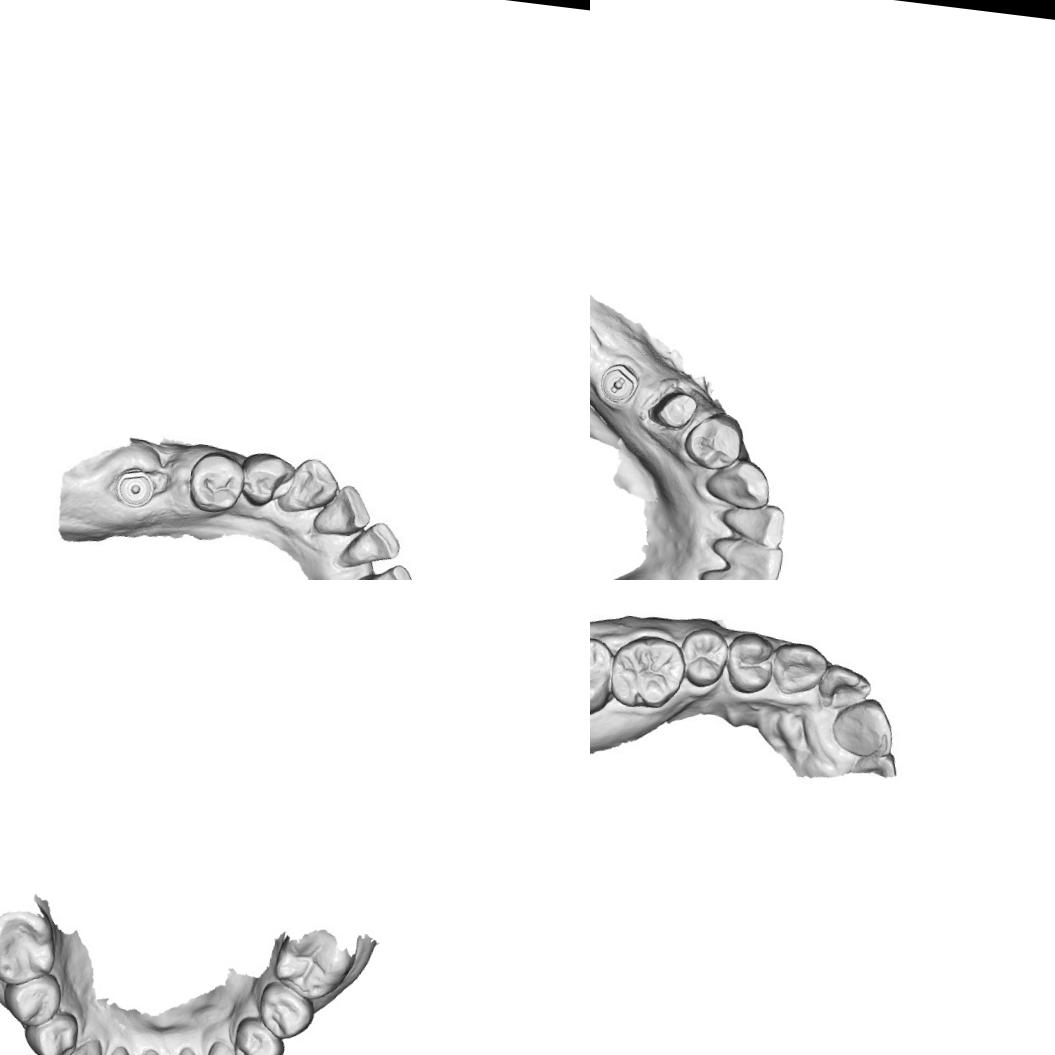canine: (702, 454, 772, 512), (282, 454, 337, 518), (768, 641, 824, 697), (52, 1037, 108, 1055), (200, 1038, 250, 1055)
crown: (646, 383, 698, 436)
implant: (107, 462, 160, 516)
implant_minus: (598, 358, 643, 409)
incisor: (822, 696, 894, 759), (816, 656, 876, 719), (721, 499, 788, 551), (722, 535, 787, 580), (316, 487, 364, 538), (345, 521, 397, 567), (706, 568, 778, 580), (363, 565, 412, 580)
molar: (271, 923, 356, 1004), (609, 630, 690, 711), (0, 905, 59, 987), (590, 627, 620, 722)
premolar: (680, 408, 748, 474), (1, 970, 64, 1032), (675, 622, 732, 690), (187, 450, 245, 514), (254, 982, 315, 1042), (238, 449, 294, 512), (726, 630, 776, 694), (20, 1006, 80, 1055), (229, 1014, 286, 1055)
